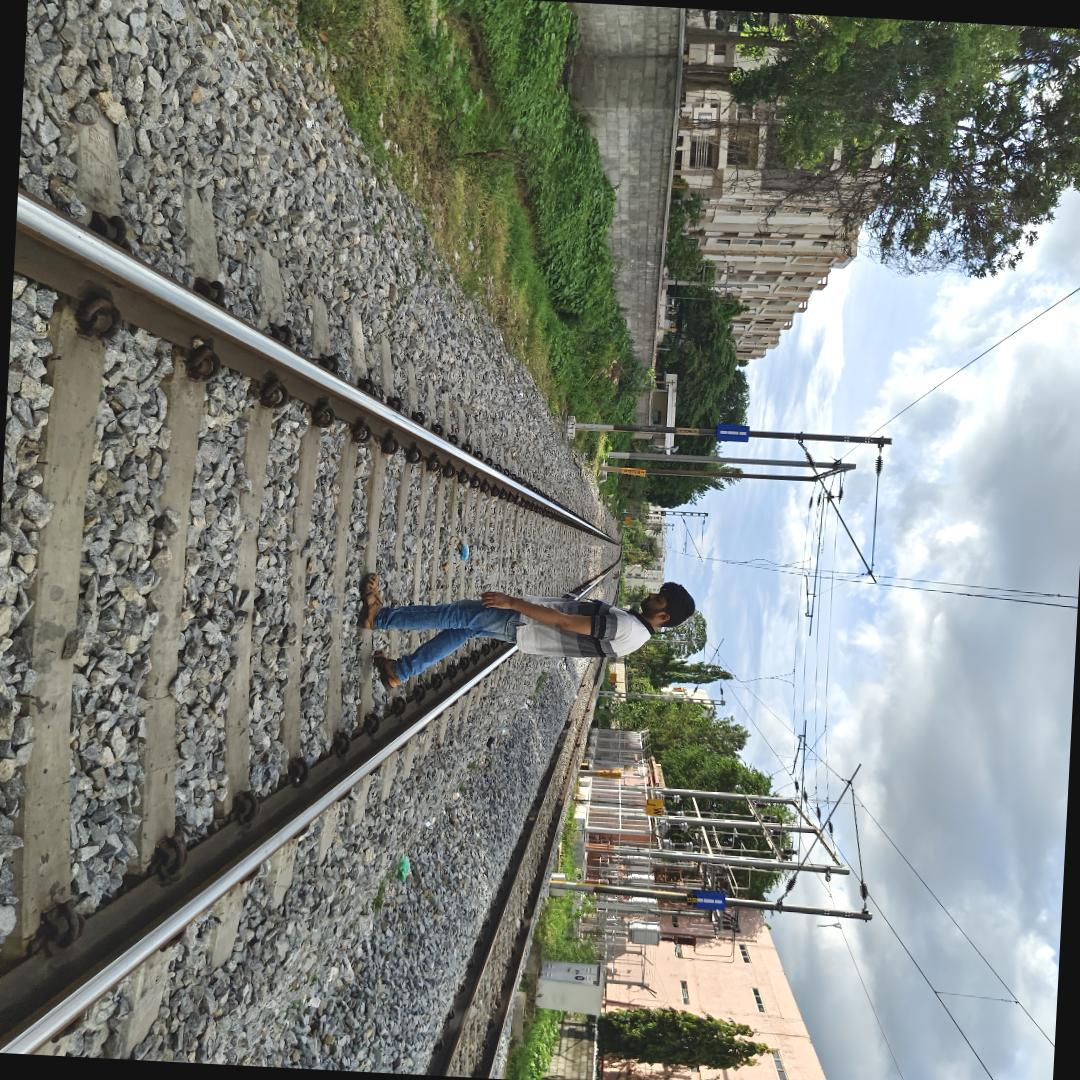standing: (339, 549, 704, 709)
